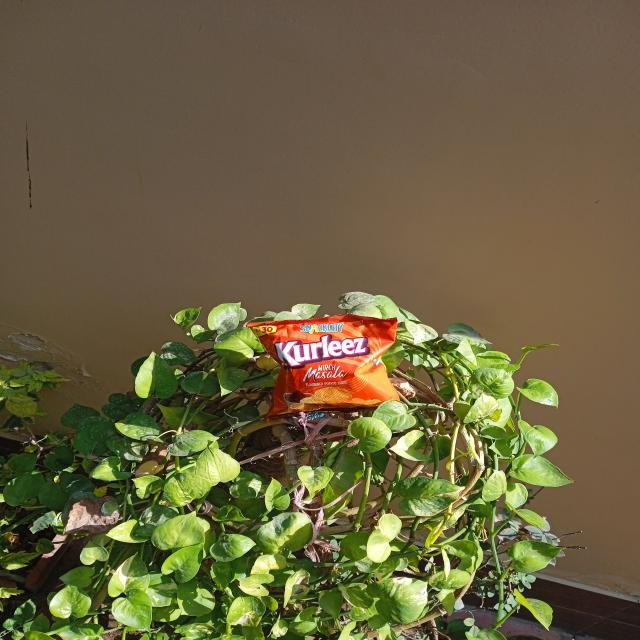Plastic: (250, 311, 417, 411)
